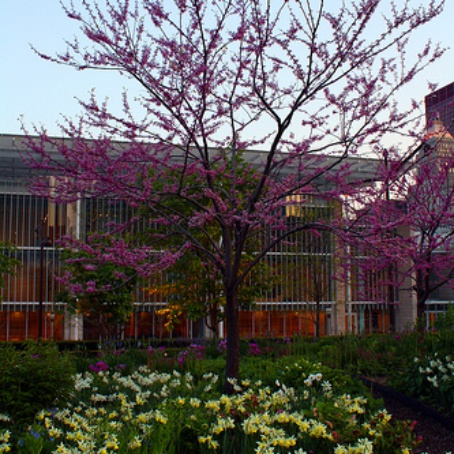building: (1, 138, 408, 339)
flowers: (43, 356, 386, 454)
tree: (35, 1, 454, 370)
